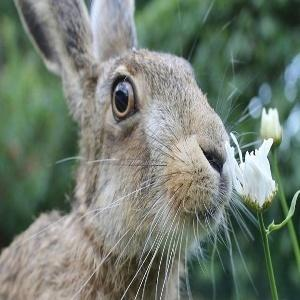rabbit: (0, 0, 231, 299)
